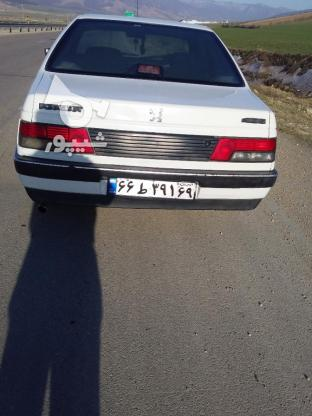car: (108, 173, 200, 201)
